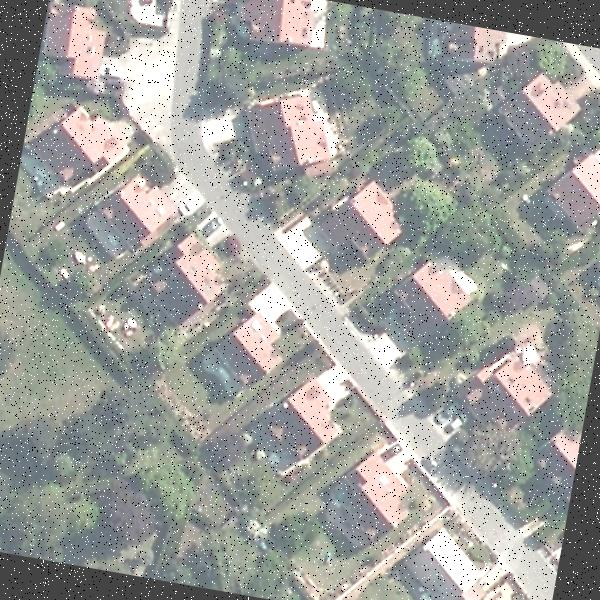Buildings: (235, 80, 350, 176), (459, 344, 552, 434), (34, 2, 120, 92), (323, 177, 404, 260), (404, 526, 494, 600), (38, 114, 124, 186), (389, 262, 478, 330), (214, 0, 328, 53), (336, 455, 414, 528), (270, 380, 337, 454), (154, 249, 228, 311), (545, 149, 600, 230), (430, 19, 512, 70), (508, 79, 568, 148), (103, 180, 174, 236), (222, 320, 284, 378), (537, 430, 578, 485)
